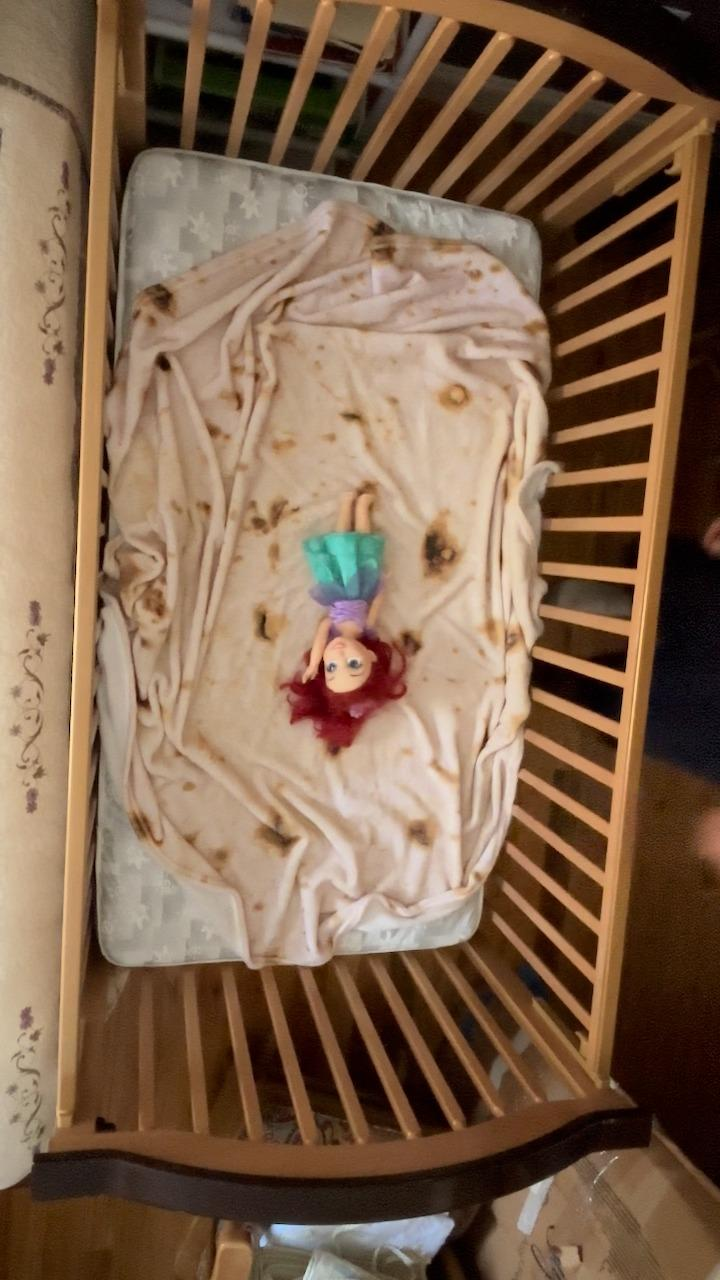baby: (284, 480, 412, 720)
